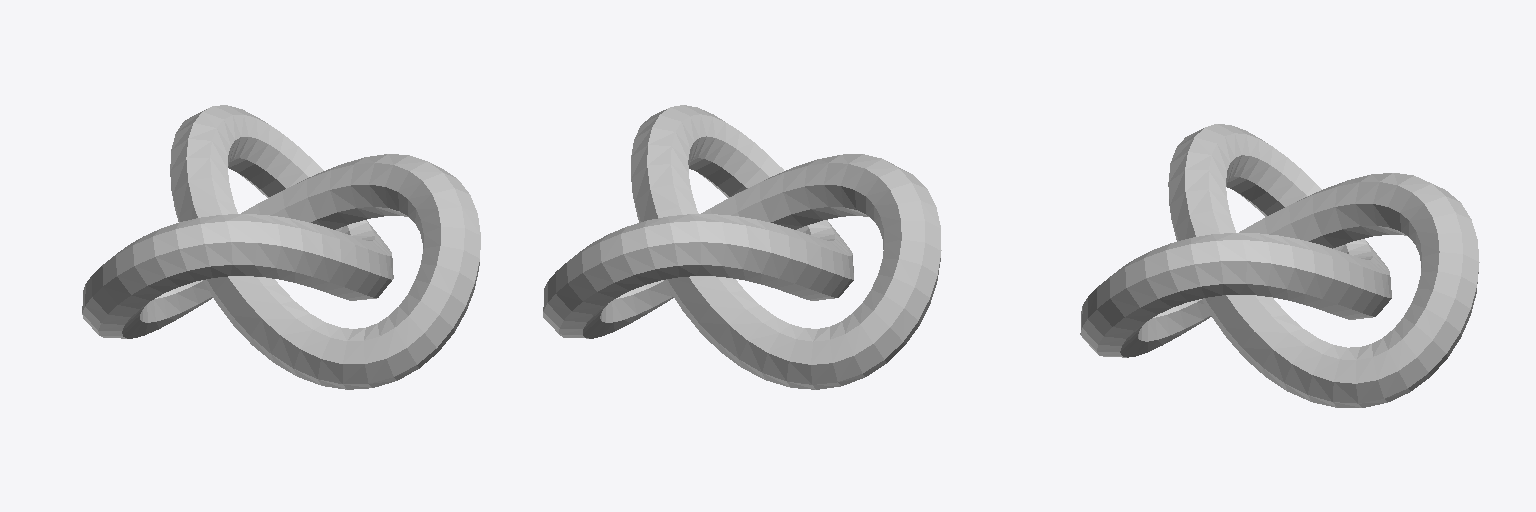
The model's file is torusknot.obj.
The picture shows the model from 3 angles: view 1: azimuth 30°, elevation 25°; view 2: azimuth 150°, elevation 25°; view 3: azimuth 270°, elevation 25°; orthographic projection.
Parts seen in each view (by area): view 1: Torus_Knot; view 2: Torus_Knot; view 3: Torus_Knot.
Part boxes in pixels (left/top/right/bottom): Torus_Knot: left=82, top=105, right=480, bottom=389; Torus_Knot: left=543, top=105, right=941, bottom=389; Torus_Knot: left=1080, top=124, right=1479, bottom=407.
Bounding box in the file's own units: 6.04 × 2.96 × 6.41.